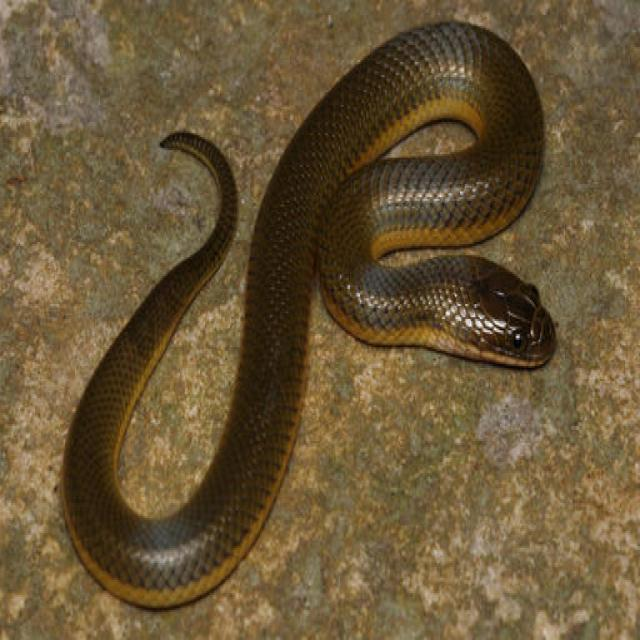Snake: (58, 13, 554, 596)
